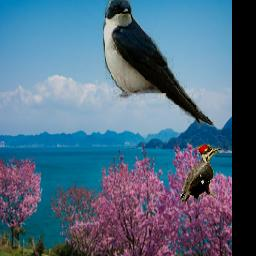Swallow: (102, 0, 213, 127)
Woodpecker: (179, 146, 222, 202)
